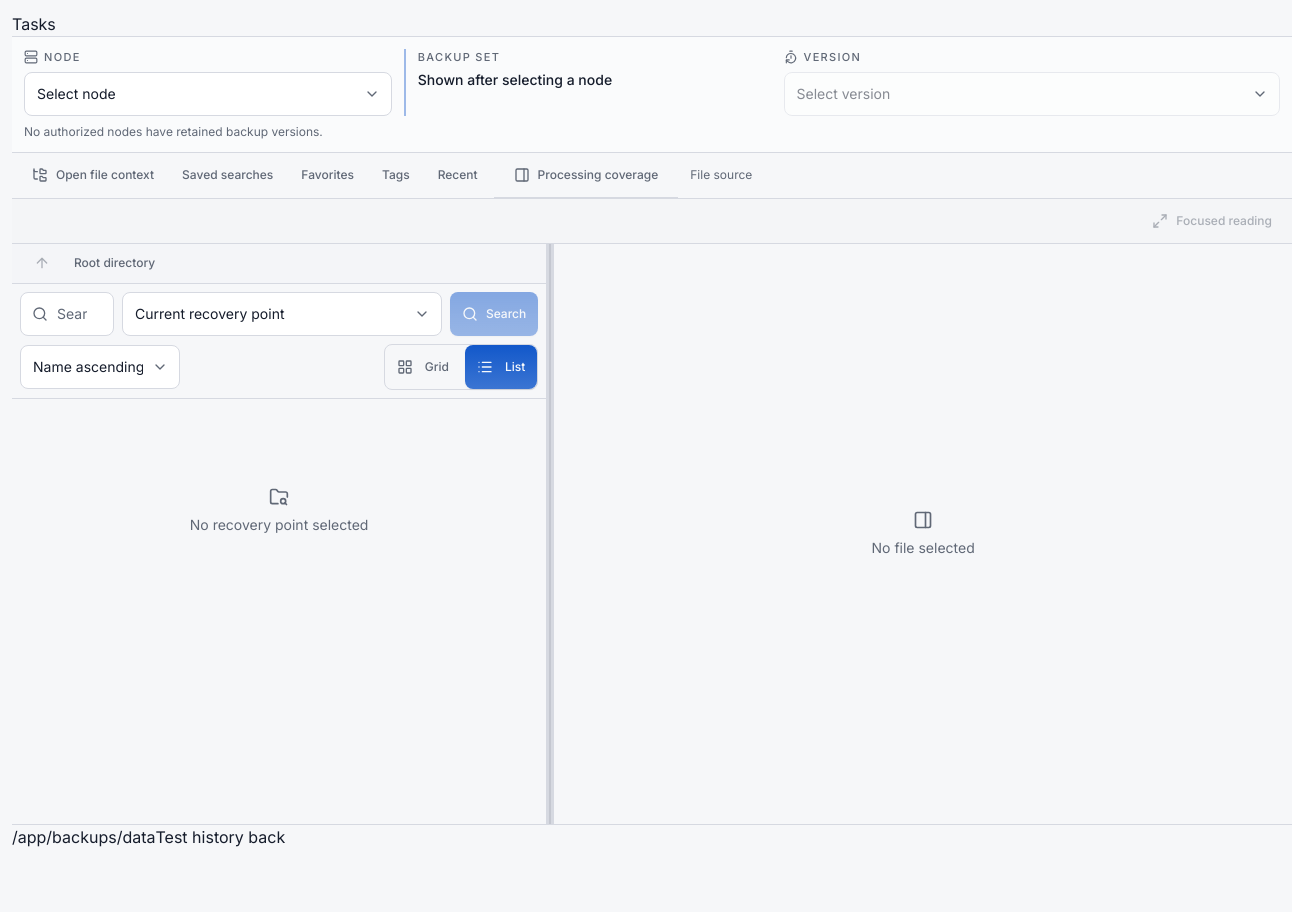
Test case: BackupsPage › does not let an exiting Files page overwrite sibling navigation
Click the link "Tasks" at (34, 24), box [12, 14, 56, 34]
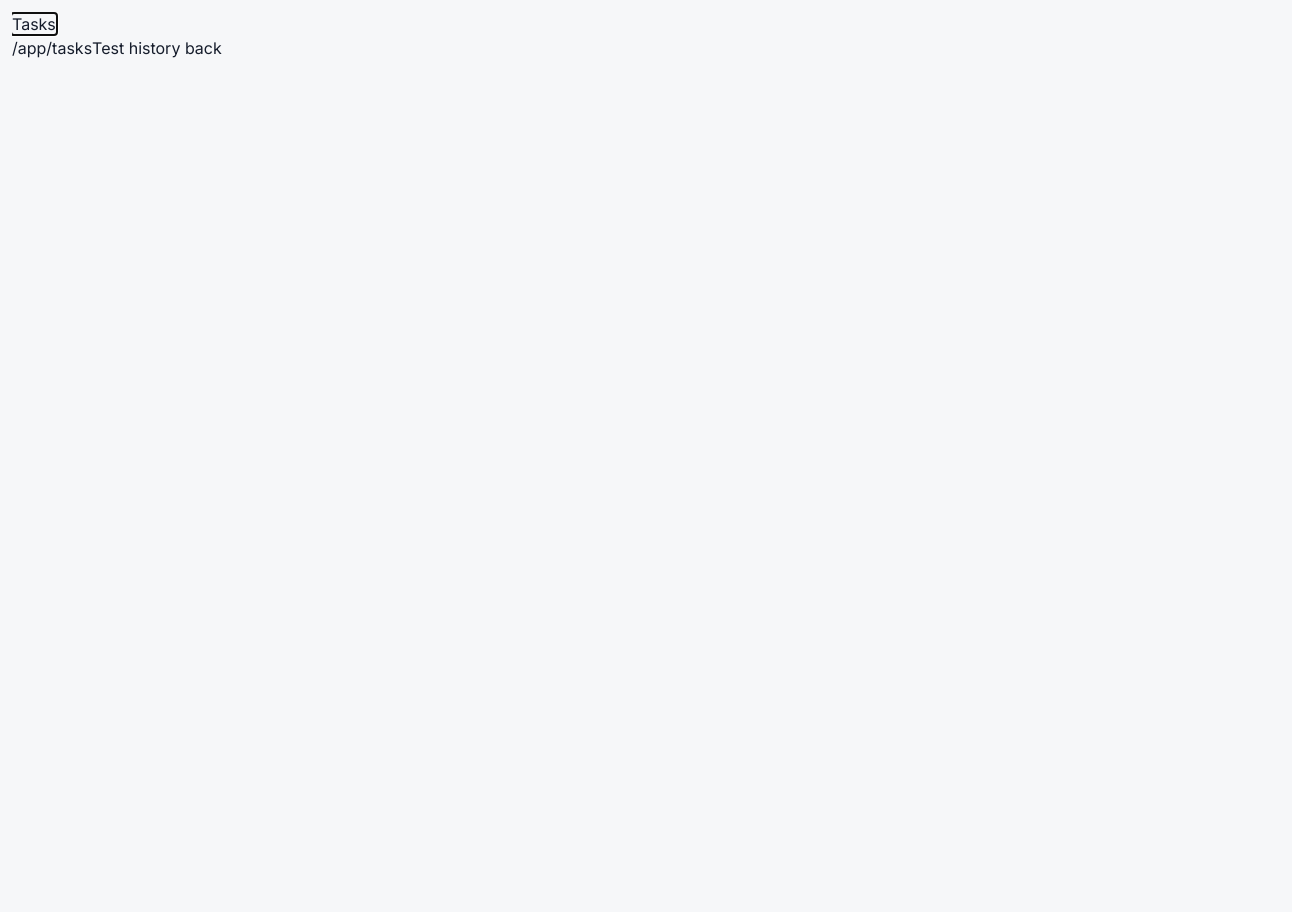
Result: the text with test id "backups-location" reads "/app/tasks" at [12, 38, 92, 58]
